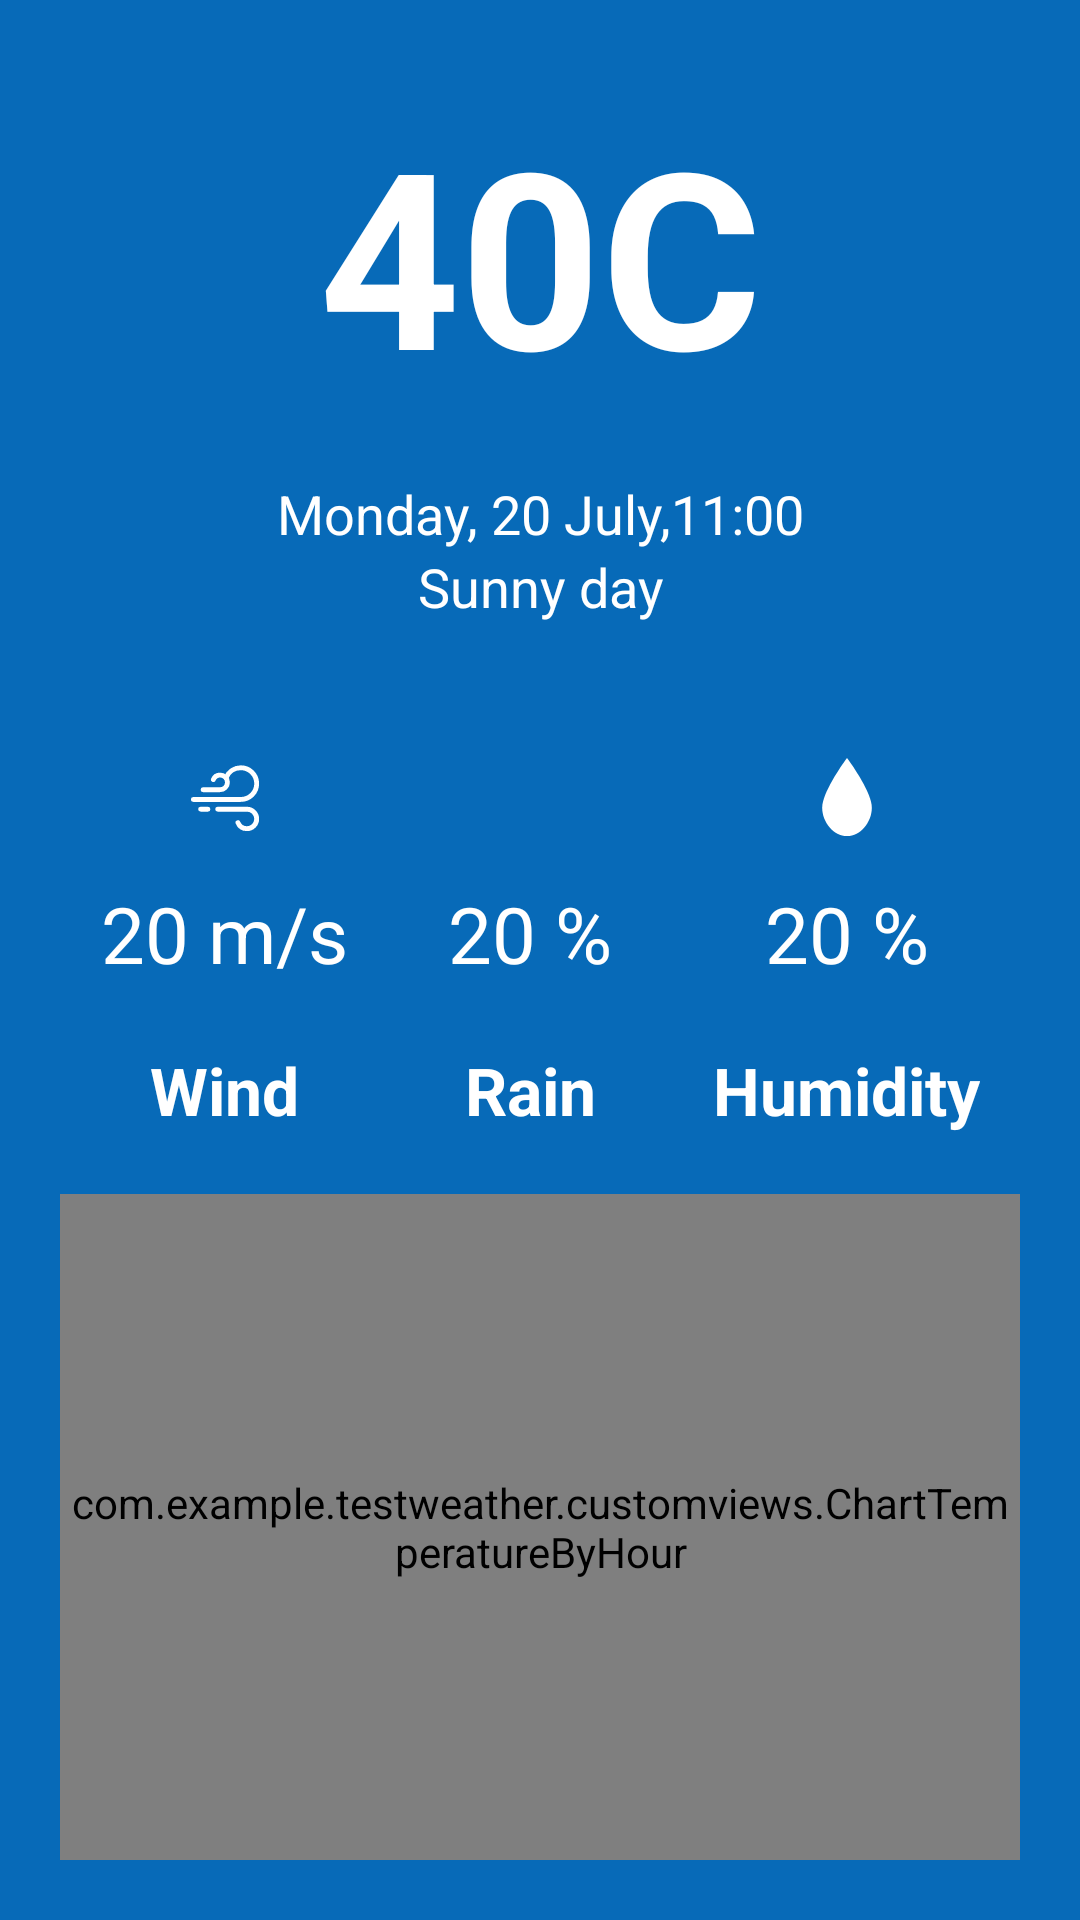

Icon bounding boxes for this 1080 x 1920 phone screenshot, format (x1, y1, x2, y2):
humidity: (822, 758, 872, 836)
wind: (191, 765, 259, 831)
